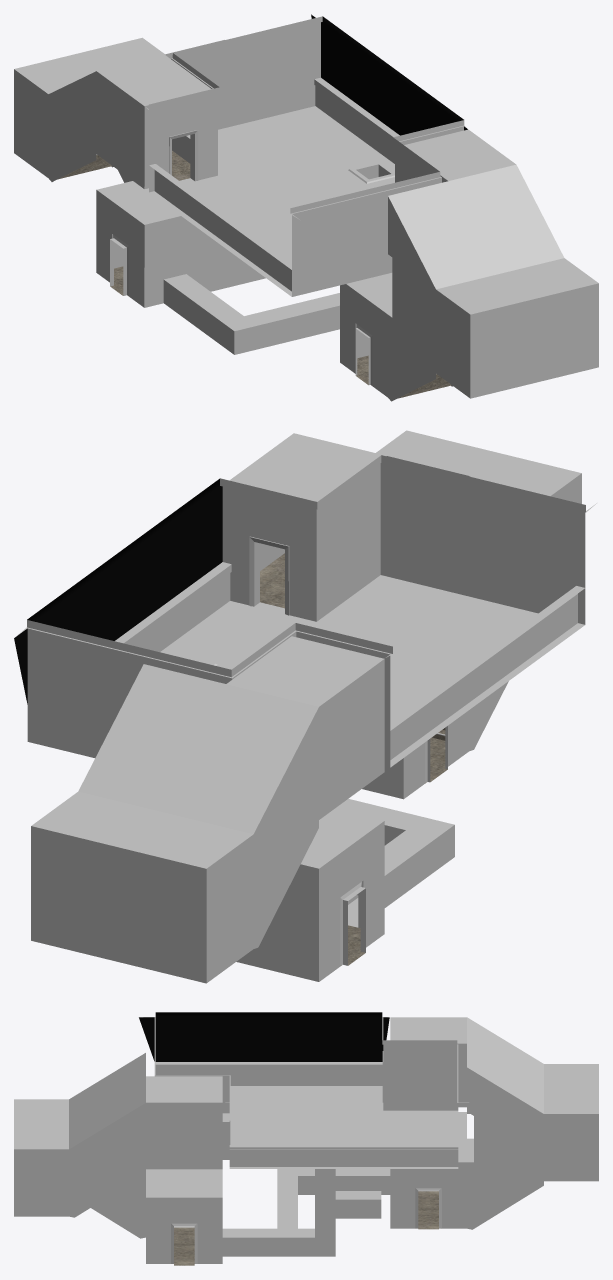
The model's file is Roof_Area.FBX.
The picture shows the model from 3 angles, top to bottom: view 1: azimuth 30°, elevation 25°; view 2: azimuth 150°, elevation 25°; view 3: azimuth 270°, elevation 25°; orthographic projection. The views are drawn at different scales.
Visible parts, largest first — view 1: Roof_Area; view 2: Roof_Area; view 3: Roof_Area.
Boxes of the visible parts, x1,y1,x2,y2 form: Roof_Area: (14,14,598,401); Roof_Area: (14,430,596,983); Roof_Area: (14,1012,598,1265).
Size of what is drawn, in the model's own units: 1181 by 1039 by 3299.
